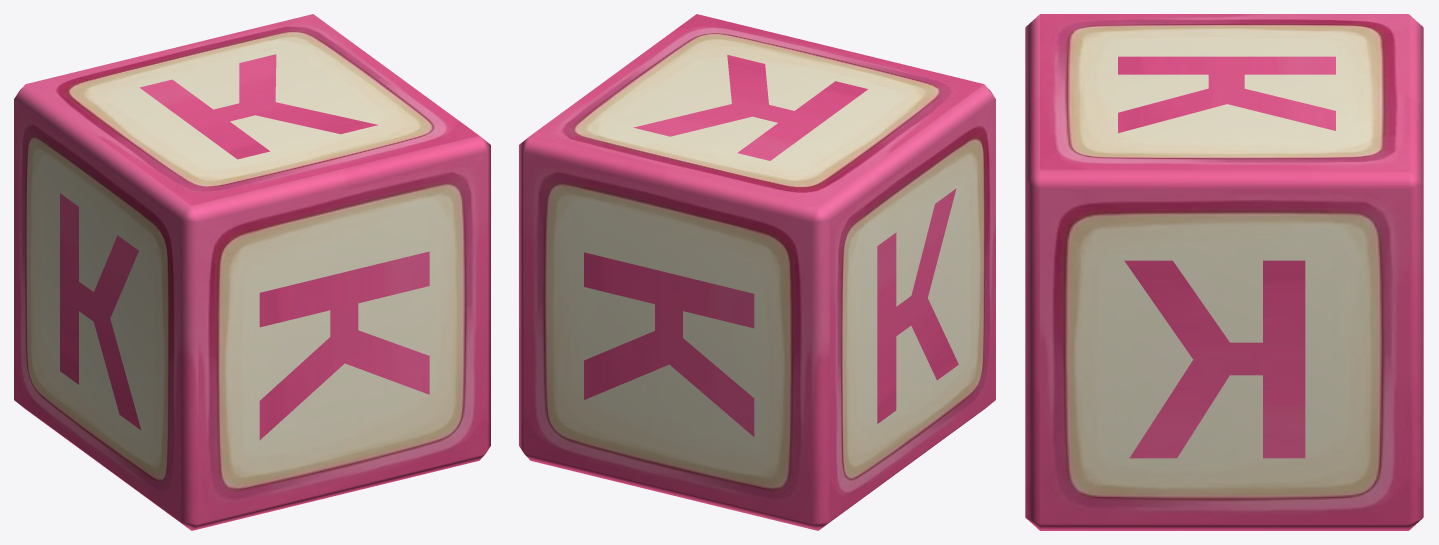
File: CubeK.glb
3 views of the same model, side by side, from view 1: azimuth 30°, elevation 25°; view 2: azimuth 150°, elevation 25°; view 3: azimuth 270°, elevation 25° (orthographic). The views are drawn at different scales.
Parts seen in each view (by area): view 1: CubeK; view 2: CubeK; view 3: CubeK.
Part boxes in pixels (x1,y1,x2,y2): CubeK: [14, 14, 490, 530]; CubeK: [519, 14, 995, 530]; CubeK: [1025, 14, 1423, 530].
Size of what is drawn, in the model's own units: 0.513 by 0.513 by 0.513.
1 material, 1 textured.
